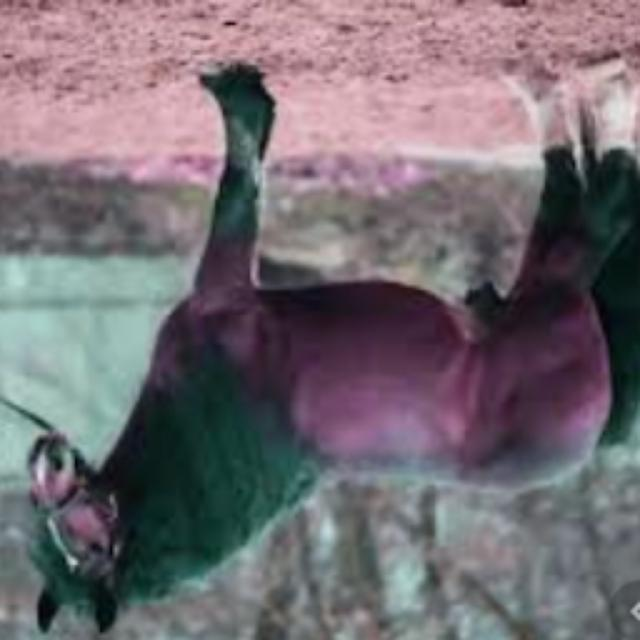Horse: (12, 48, 637, 640)
